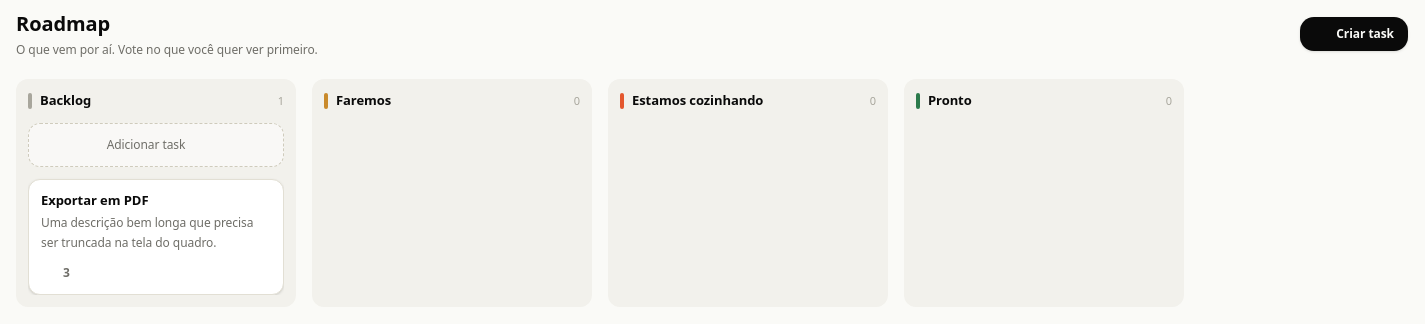
it: roadmap — voto › clicar marca o voto, soma 1 e manda o cardId para a rota
The image size is (1425, 324).
Step 1. Click the button with test id "vote-c1" → (55, 273), box [41,264,70,282]
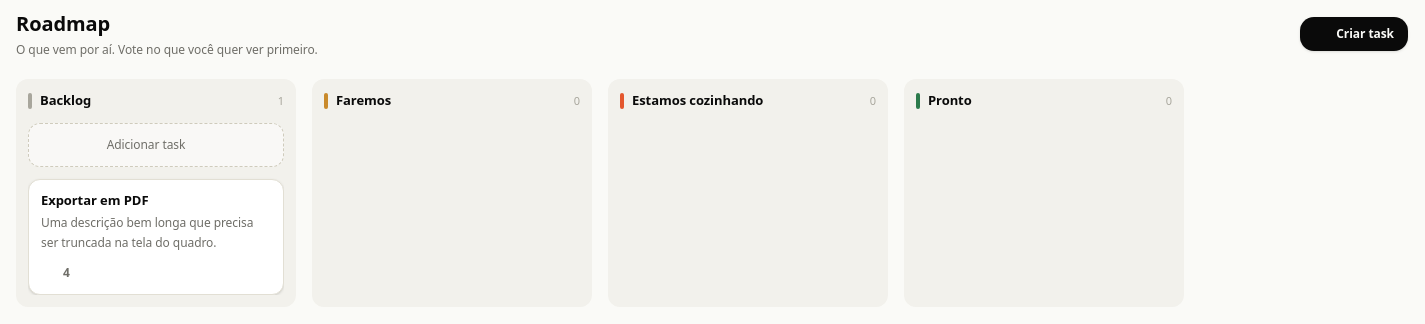
Expected: the text with test id "vote-count-c1" reads "4", [63,264,70,281]
